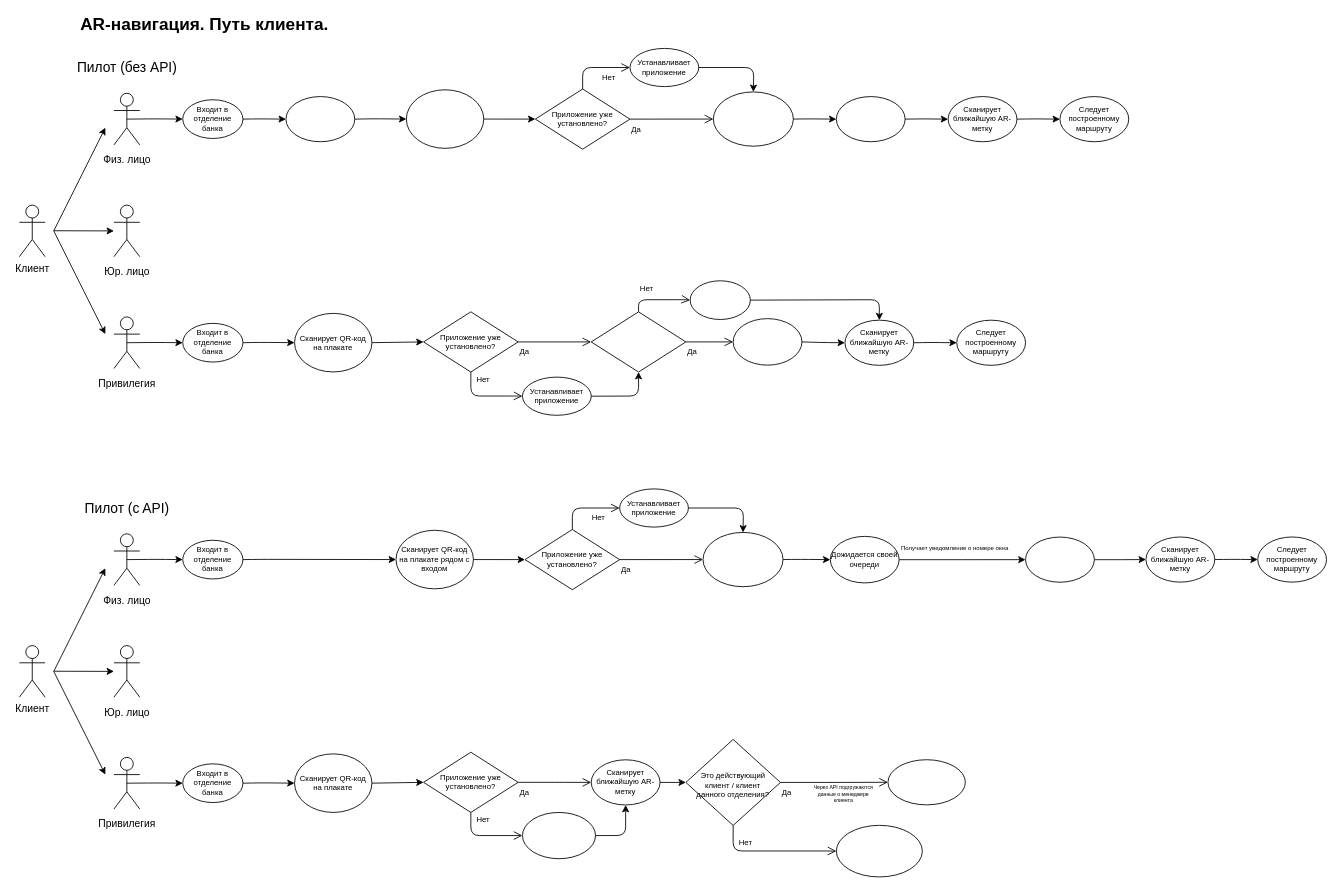
Some shapes in this 1342 by 892 pixel diagram are drawn without their labels. The shapes that lost their labels are listed below. From the top down, each one's centre as x and y in pixels, then its label:
point 320,119: Получает талон через СУО
point 444,118: Сканирует QR-код на плакате рядом с СУО
point 753,118: Дожидается, когда на табло появится номер окна
point 870,119: Вводит номер окна в приложение
point 719,299: Выбирает пункт "не знаю имя"
point 638,341: Клиент знает имя менеджера?
point 767,341: Вводит имя менеджера
point 742,559: Выбирает услугу в мобильной СУО
point 1059,559: Нажимает на уведомление
point 926,782: Следует построенному маршруту до менеджера
point 559,835: Устанавливает приложение и авторизуется
point 878,850: Следует построенному маршруту до зала, где ожидает менеджера
